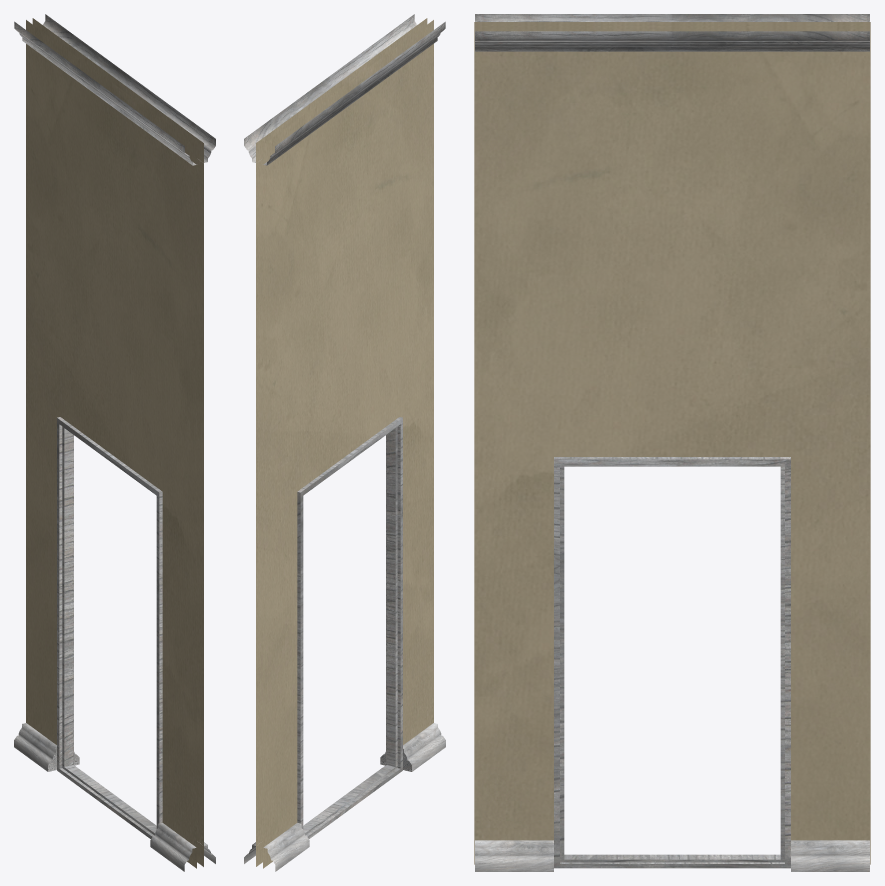
The model's file is DoorFrame.fbx.
3 views of the same model, side by side, from view 1: azimuth 30°, elevation 25°; view 2: azimuth 150°, elevation 25°; view 3: azimuth 270°, elevation 25° (orthographic). The views are drawn at different scales.
Parts seen in each view (by area): view 1: Cube.004; view 2: Cube.004; view 3: Cube.004.
Part boxes in pixels (left/top/right/bottom): Cube.004: left=14, top=14, right=215, bottom=871; Cube.004: left=244, top=14, right=445, bottom=871; Cube.004: left=474, top=14, right=870, bottom=871.
Size of the model in its own units: 6.36 by 140 by 60.
